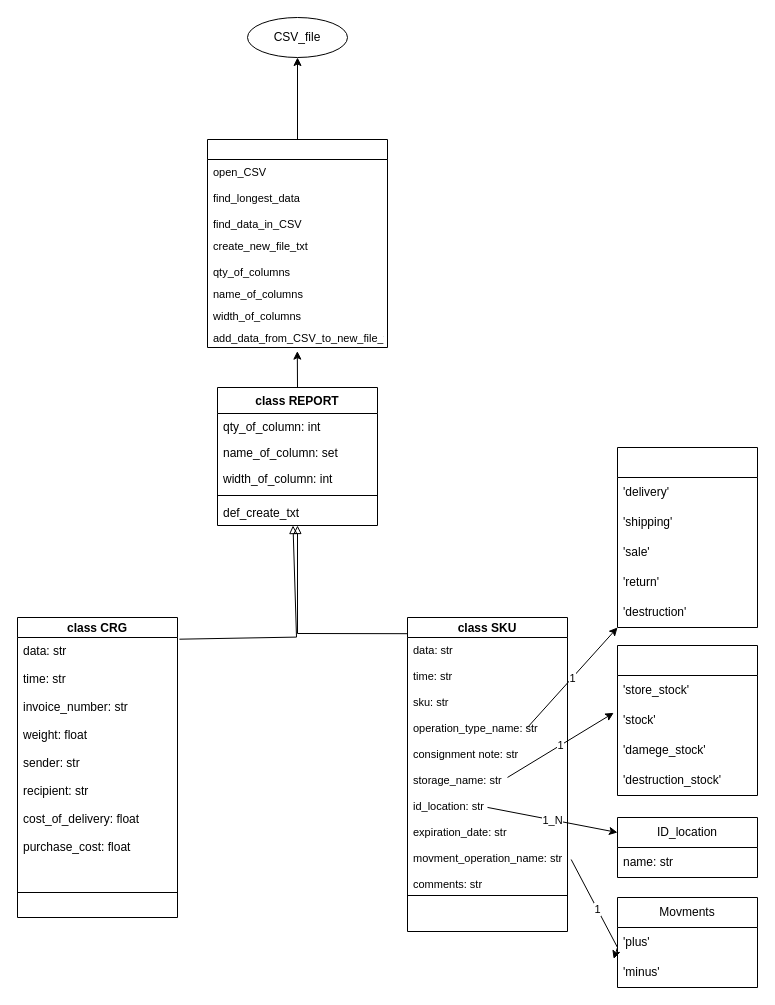
This 775x1005 diagram has some shape labels left out. Each missing label, with the box of its shape:
MAIN: (206, 138, 388, 348)
Operations: (616, 446, 758, 628)
Storage: (616, 644, 758, 796)
